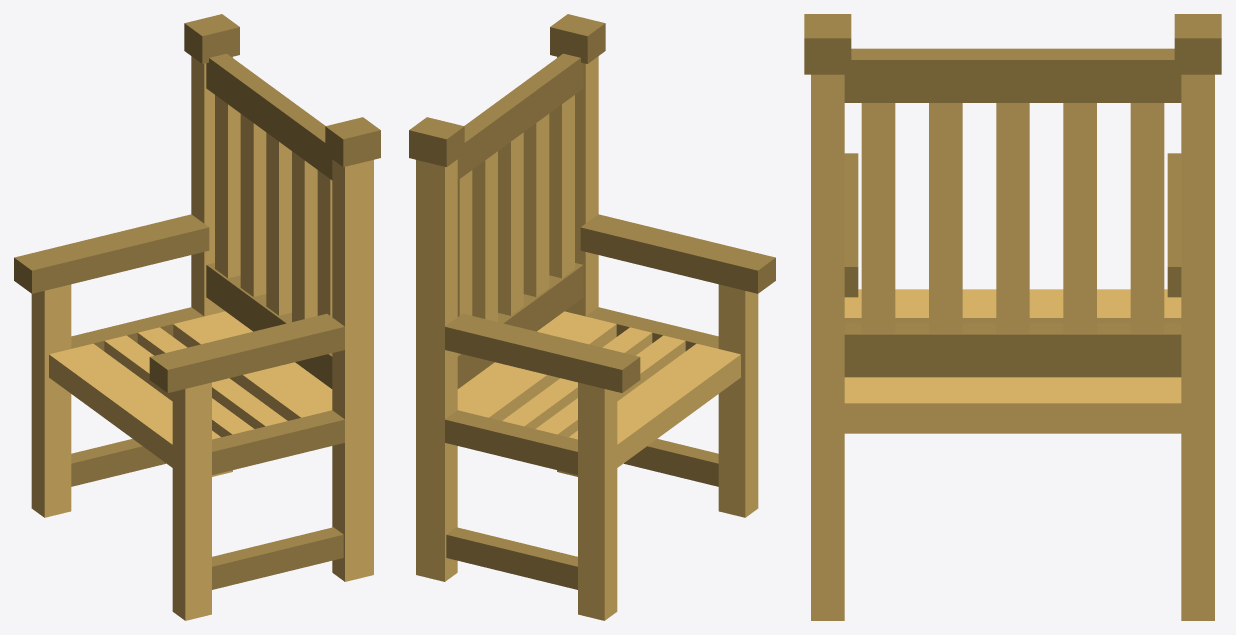
Rendered from chair1.gltf.
The picture shows the model from 3 angles, left to right: view 1: azimuth 30°, elevation 25°; view 2: azimuth 150°, elevation 25°; view 3: azimuth 270°, elevation 25°; orthographic projection. The views are drawn at different scales.
Parts seen in each view (by area): view 1: af0aab9b-c2a3-d645-1e45-ac593a2b32d0, 0883bd42-780a-7ee3-cb60-99e27635b315, babd92fc-acaf-2906-bc7f-d5428a583eb7, 5603b400-e932-2fbb-b5fd-9ff2d2440b94, b44a5c61-6799-8cba-5618-5bfdd10bda1f, 7af2856a-f56b-1bfc-209b-daa076292e85, 0a3cfab7-5a5f-e3ca-7a63-968910c07651, bccd5ce6-e7af-aa34-9afe-e296417a06c1, c145c0d2-d0b2-04d3-1300-1ef1b137cb5c, 29638f14-53d2-89a3-58af-09ca5d230022, e08823df-b6f4-a09b-b28f-e8772bd08527, 240a326f-c1b4-8069-72b5-9d823ef5d569 (+11 smaller); view 2: c145c0d2-d0b2-04d3-1300-1ef1b137cb5c, babd92fc-acaf-2906-bc7f-d5428a583eb7, 0883bd42-780a-7ee3-cb60-99e27635b315, b44a5c61-6799-8cba-5618-5bfdd10bda1f, 5603b400-e932-2fbb-b5fd-9ff2d2440b94, 7af2856a-f56b-1bfc-209b-daa076292e85, 0a3cfab7-5a5f-e3ca-7a63-968910c07651, bccd5ce6-e7af-aa34-9afe-e296417a06c1, af0aab9b-c2a3-d645-1e45-ac593a2b32d0, 15eb0b86-8ddf-5359-8836-addb5c3b983a, 4b783a1a-9f95-c89f-030b-c357e826b729, 240a326f-c1b4-8069-72b5-9d823ef5d569 (+11 smaller); view 3: bccd5ce6-e7af-aa34-9afe-e296417a06c1, c145c0d2-d0b2-04d3-1300-1ef1b137cb5c, af0aab9b-c2a3-d645-1e45-ac593a2b32d0, 0a3cfab7-5a5f-e3ca-7a63-968910c07651, 5fedc32b-6d65-db08-a3bf-c0898e0ae89c, c403500c-6eac-6879-ea70-c1b5c7a32e88, 6ab38fb2-9069-0885-b8e1-6f3c8f02f9c0, e08823df-b6f4-a09b-b28f-e8772bd08527, 4b783a1a-9f95-c89f-030b-c357e826b729, 240a326f-c1b4-8069-72b5-9d823ef5d569, 7af2856a-f56b-1bfc-209b-daa076292e85, 1f016956-3f7d-d4a7-f51a-5ef5b50eeba6 (+3 smaller).
Boxes of the visible parts, x1,y1,x2,y2 form: af0aab9b-c2a3-d645-1e45-ac593a2b32d0: [332, 159, 373, 581]; 0883bd42-780a-7ee3-cb60-99e27635b315: [172, 382, 211, 620]; babd92fc-acaf-2906-bc7f-d5428a583eb7: [31, 284, 71, 517]; 5603b400-e932-2fbb-b5fd-9ff2d2440b94: [14, 214, 209, 293]; b44a5c61-6799-8cba-5618-5bfdd10bda1f: [149, 313, 344, 392]; 7af2856a-f56b-1bfc-209b-daa076292e85: [49, 343, 220, 467]; 0a3cfab7-5a5f-e3ca-7a63-968910c07651: [206, 53, 332, 180]; bccd5ce6-e7af-aa34-9afe-e296417a06c1: [173, 311, 332, 420]; c145c0d2-d0b2-04d3-1300-1ef1b137cb5c: [191, 56, 232, 476]; 29638f14-53d2-89a3-58af-09ca5d230022: [212, 410, 344, 474]; e08823df-b6f4-a09b-b28f-e8772bd08527: [240, 114, 266, 296]; 240a326f-c1b4-8069-72b5-9d823ef5d569: [266, 132, 291, 315]; c145c0d2-d0b2-04d3-1300-1ef1b137cb5c: [416, 159, 457, 581]; babd92fc-acaf-2906-bc7f-d5428a583eb7: [578, 382, 617, 620]; 0883bd42-780a-7ee3-cb60-99e27635b315: [718, 284, 758, 517]; b44a5c61-6799-8cba-5618-5bfdd10bda1f: [580, 214, 775, 293]; 5603b400-e932-2fbb-b5fd-9ff2d2440b94: [445, 313, 640, 392]; 7af2856a-f56b-1bfc-209b-daa076292e85: [569, 343, 740, 467]; 0a3cfab7-5a5f-e3ca-7a63-968910c07651: [457, 53, 583, 180]; bccd5ce6-e7af-aa34-9afe-e296417a06c1: [457, 311, 616, 420]; af0aab9b-c2a3-d645-1e45-ac593a2b32d0: [557, 56, 598, 476]; 15eb0b86-8ddf-5359-8836-addb5c3b983a: [445, 410, 577, 474]; 4b783a1a-9f95-c89f-030b-c357e826b729: [523, 114, 549, 296]; 240a326f-c1b4-8069-72b5-9d823ef5d569: [498, 132, 523, 315]; bccd5ce6-e7af-aa34-9afe-e296417a06c1: [844, 377, 1181, 433]; c145c0d2-d0b2-04d3-1300-1ef1b137cb5c: [1181, 74, 1214, 620]; af0aab9b-c2a3-d645-1e45-ac593a2b32d0: [811, 74, 844, 620]; 0a3cfab7-5a5f-e3ca-7a63-968910c07651: [844, 48, 1181, 102]; 5fedc32b-6d65-db08-a3bf-c0898e0ae89c: [844, 323, 1181, 377]; c403500c-6eac-6879-ea70-c1b5c7a32e88: [1130, 103, 1164, 333]; 6ab38fb2-9069-0885-b8e1-6f3c8f02f9c0: [861, 103, 895, 333]; e08823df-b6f4-a09b-b28f-e8772bd08527: [1063, 103, 1096, 333]; 4b783a1a-9f95-c89f-030b-c357e826b729: [929, 103, 962, 333]; 240a326f-c1b4-8069-72b5-9d823ef5d569: [996, 103, 1029, 333]; 7af2856a-f56b-1bfc-209b-daa076292e85: [844, 289, 1181, 323]; 1f016956-3f7d-d4a7-f51a-5ef5b50eeba6: [804, 14, 851, 74].
Size of the model in its own units: 0.5938 by 1.2 by 0.775.
2 materials, 2 textured.
